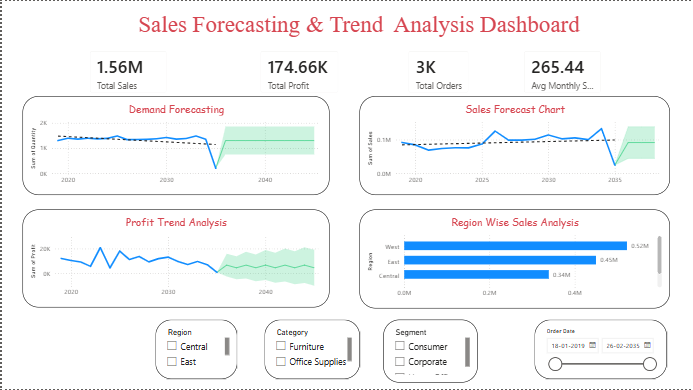

The page's visual inventory and layout, read from the dashboard file:
{"tool":"powerbi","page":{"name":"Forecast DB ","canvas":[1280,720],"ordinal":4},"visuals":[{"type":"textbox","box":[211.7,13.3,898.3,85],"z":0},{"type":"cardVisual","fields":{"Data":["Measure.Total Sales"]},"box":[145,75,176.7,111.7],"z":1000},{"type":"cardVisual","fields":{"Data":["Measure.Total Profit"]},"box":[461.7,75,178.3,111.7],"z":2000},{"type":"cardVisual","fields":{"Data":["Measure.Total Orders"]},"box":[735,75,145,111.7],"z":3000},{"type":"cardVisual","fields":{"Data":["Measure.Avg Monthly Sales"]},"box":[950,75,176.7,111.7],"z":4000},{"type":"lineChart","title":"Demand Forecasting","fields":{"Category":["Sheet1.Order Date.Variation.Date Hierarchy.Year","Sheet1.Order Date.Variation.Date Hierarchy.Quarter","Sheet1.Order Date.Variation.Date Hierarchy.Month","Sheet1.Order Date.Variation.Date Hierarchy.Day"],"Y":["Sum(Sheet1.Quantity)"]},"box":[38.3,176.7,568.3,183.3],"z":5000},{"type":"lineChart","title":"Sales Forecast Chart","fields":{"Category":["Sheet1.Order Date.Variation.Date Hierarchy.Year","Sheet1.Order Date.Variation.Date Hierarchy.Quarter","Sheet1.Order Date.Variation.Date Hierarchy.Month","Sheet1.Order Date.Variation.Date Hierarchy.Day"],"Y":["Sum(Sheet1.Sales)"]},"box":[661.7,176.7,575,183.3],"z":6000},{"type":"lineChart","title":"Profit Trend Analysis","fields":{"Category":["Sheet1.Order Date.Variation.Date Hierarchy.Year","Sheet1.Order Date.Variation.Date Hierarchy.Quarter","Sheet1.Order Date.Variation.Date Hierarchy.Month","Sheet1.Order Date.Variation.Date Hierarchy.Day"],"Y":["Sum(Sheet1.Profit)"]},"box":[38.3,386.7,568.3,181.7],"z":7000},{"type":"clusteredBarChart","title":"Region Wise  Sales Analysis","fields":{"Category":["Sheet1.Region"],"Y":["Sum(Sheet1.Sales)"]},"box":[661.7,386.7,575,183.3],"z":7001},{"type":"slicer","fields":{"Values":["Sheet1.Region"]},"box":[283.3,590,151.7,110],"z":7002},{"type":"slicer","fields":{"Values":["Sheet1.Category"]},"box":[485,590,176.7,110],"z":7003},{"type":"slicer","fields":{"Values":["Sheet1.Segment"]},"box":[705,590,175,116.7],"z":7004},{"type":"slicer","fields":{"Values":["Sheet1.Order Date"]},"box":[986.7,590,245,110],"z":7005}]}

Visuals, with their boxes in screenshot pixels (x1, y1, x2, y2), scaled from the page's 1280x720 canvas onto the 693x390 screenshot:
textbox: (115, 7, 601, 53)
cardVisual - Measure.Total Sales: (79, 41, 174, 101)
cardVisual - Measure.Total Profit: (250, 41, 346, 101)
cardVisual - Measure.Total Orders: (398, 41, 476, 101)
cardVisual - Measure.Avg Monthly Sales: (514, 41, 610, 101)
"Demand Forecasting" lineChart: (21, 96, 328, 195)
"Sales Forecast Chart" lineChart: (358, 96, 670, 195)
"Profit Trend Analysis" lineChart: (21, 209, 328, 308)
"Region Wise  Sales Analysis" clusteredBarChart: (358, 209, 670, 309)
slicer - Sheet1.Region: (153, 320, 236, 379)
slicer - Sheet1.Category: (263, 320, 358, 379)
slicer - Sheet1.Segment: (382, 320, 476, 383)
slicer - Sheet1.Order Date: (534, 320, 667, 379)
